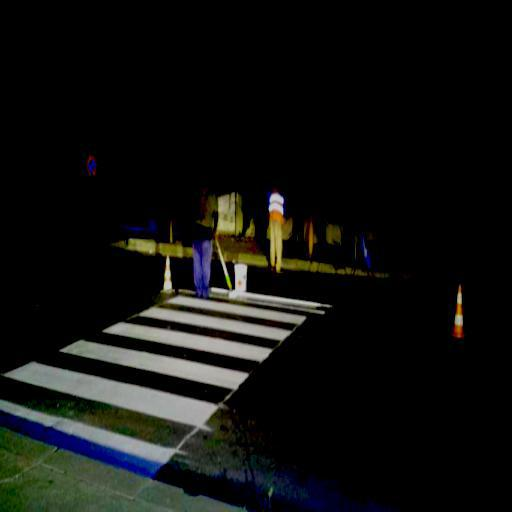crosswalk: (2, 334, 256, 431)
